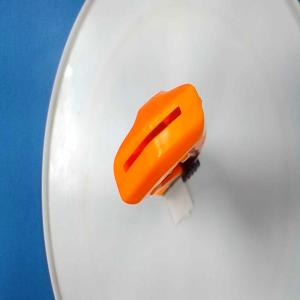estilete: (113, 83, 207, 206)
